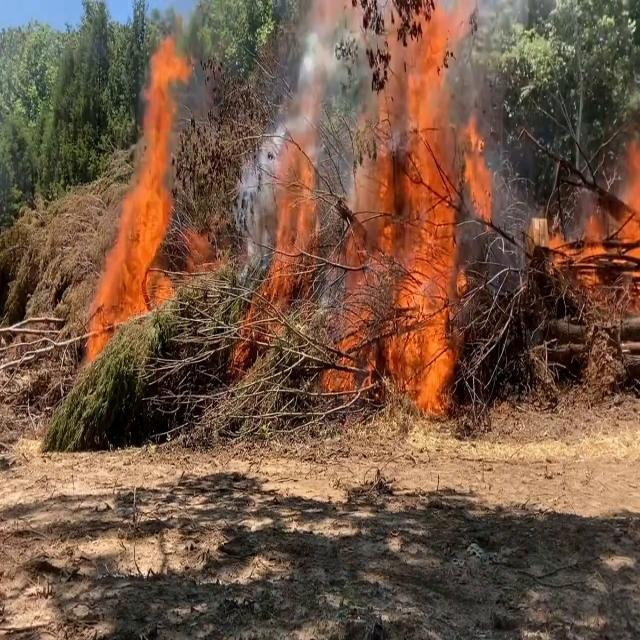Fire: (258, 2, 497, 410), (84, 37, 190, 364), (528, 124, 640, 338)
